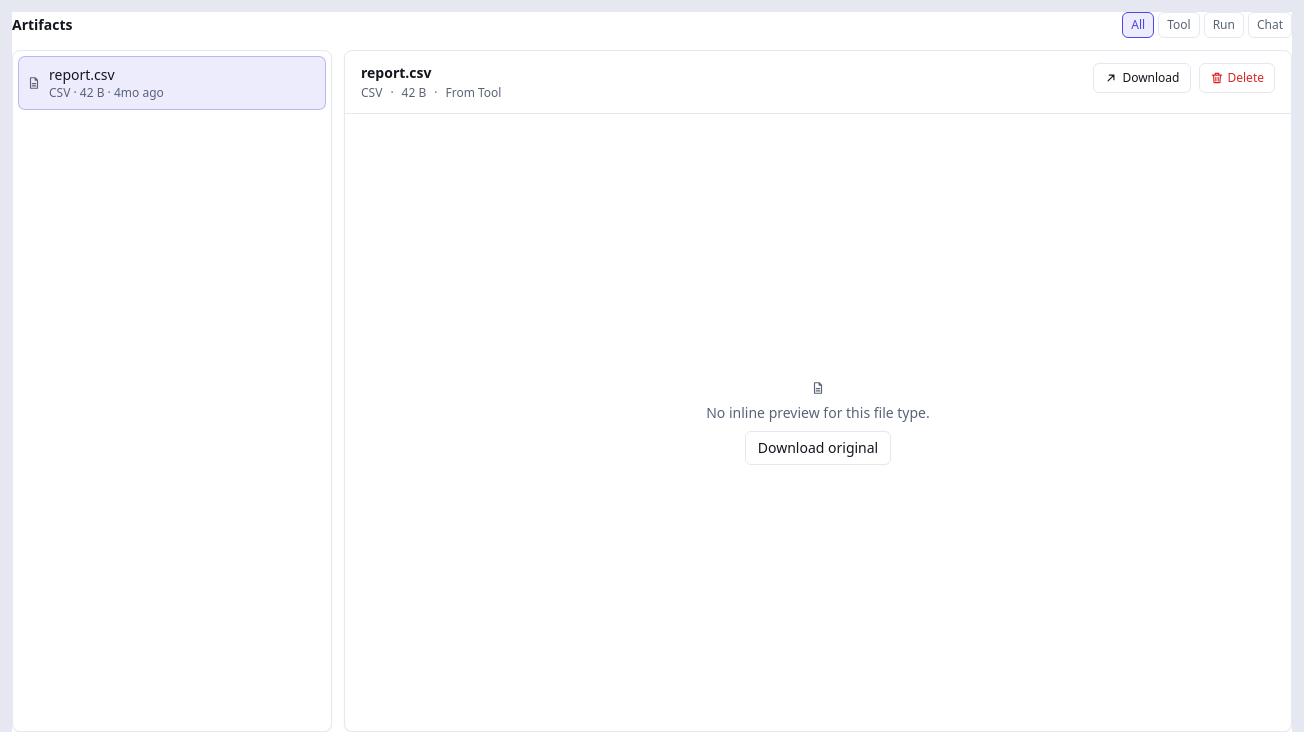
ArtifactPanel › surfaces a failed download inline (AC-3 negative)
The width and height of the screenshot is (1304, 732).
Click the button "Download". click: [1142, 78]
box: [1093,63,1190,93]
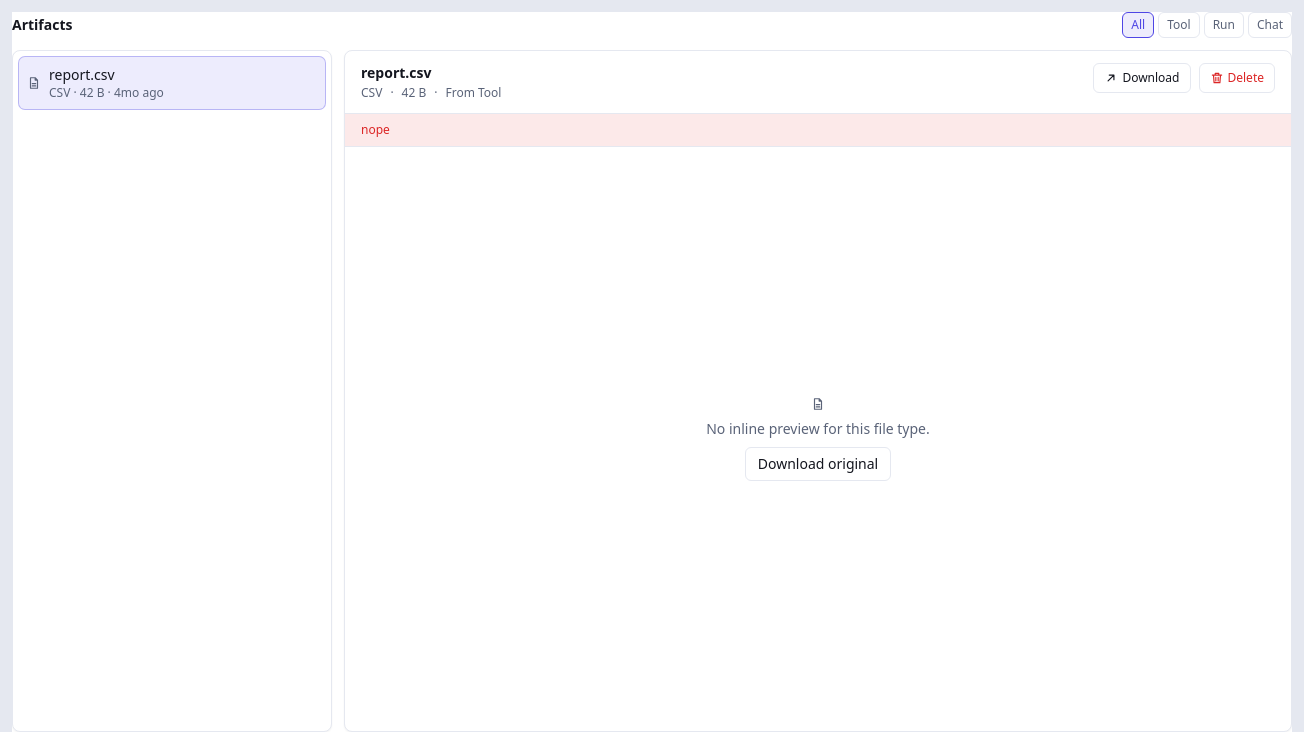
Expected: the message reads "nope", [361,121,390,138]
